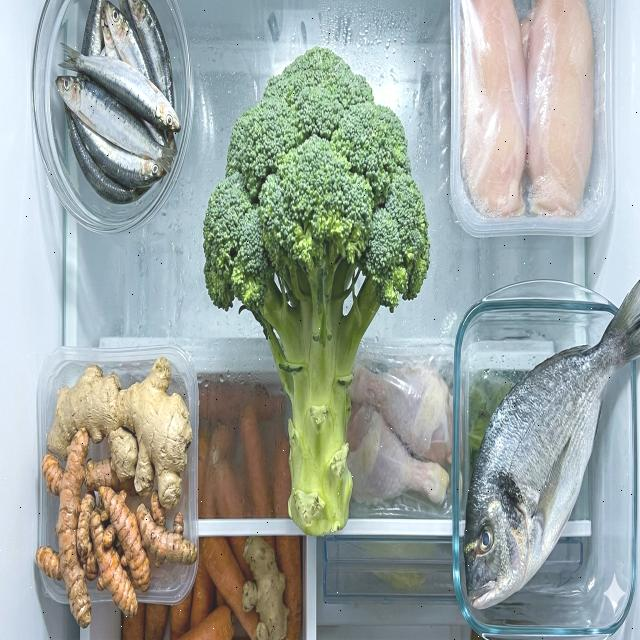brocolli: (202, 44, 430, 538)
carrot: (122, 383, 304, 639)
chicken: (460, 1, 596, 220), (345, 362, 454, 504)
fish: (464, 279, 640, 611), (54, 0, 180, 204)
ginger: (48, 358, 194, 514), (242, 540, 290, 640)
turmeric: (35, 429, 198, 631)
